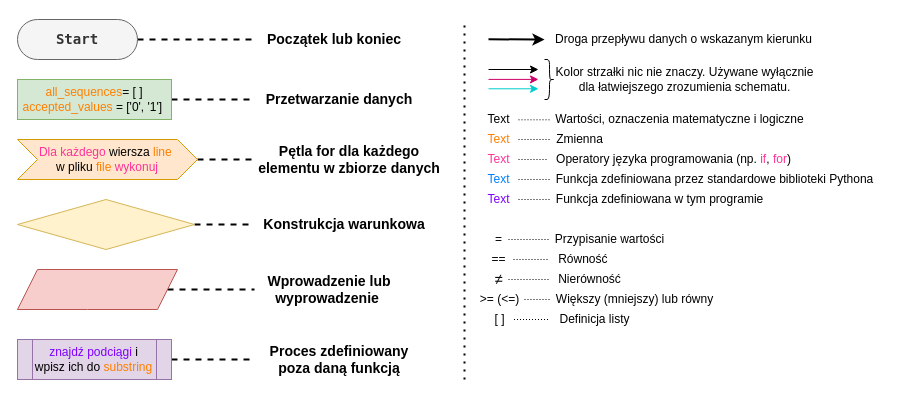
The diagram is 897 pixels wide and 408 high, and some of its shapes have lost their labels. Here are the shapes that lost their labels. From the top down, the centre of each, then its label:
At point (105, 224): "Jeśli symbol należy do accepted_values".
At point (97, 289): "Odpowiedź : najdłuższy podciąg - to wejściowy ciąg".
